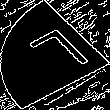L_SE: (17, 26, 93, 84)
